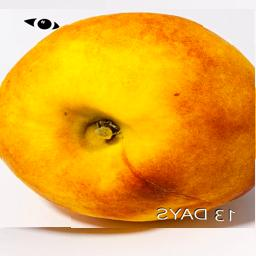Peach Semifresh: (1, 10, 256, 229)
